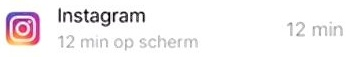name: (54, 3, 153, 28)
time: (55, 31, 79, 53)
